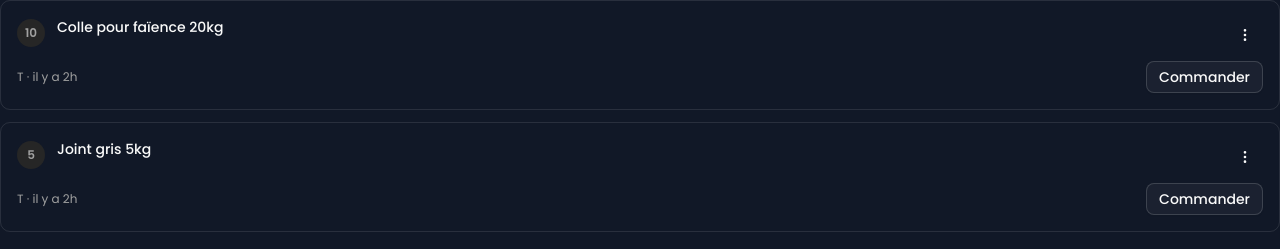
BesoinsList — DropdownMenu › DropdownMenu contains "Modifier" and "Supprimer" items
The image size is (1280, 249).
Click the button named "Actions" in the row of "Colle pour faïence 20kg": [1245, 35] box [1227,17,1263,53]
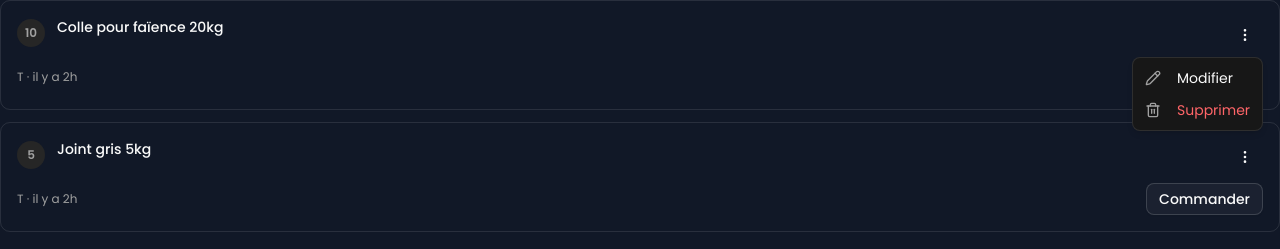
Check: the menu item "Modifier" is shown, box [1145,68,1233,88]
Check: the menu item "Supprimer" is shown, box [1137,94,1258,126]
